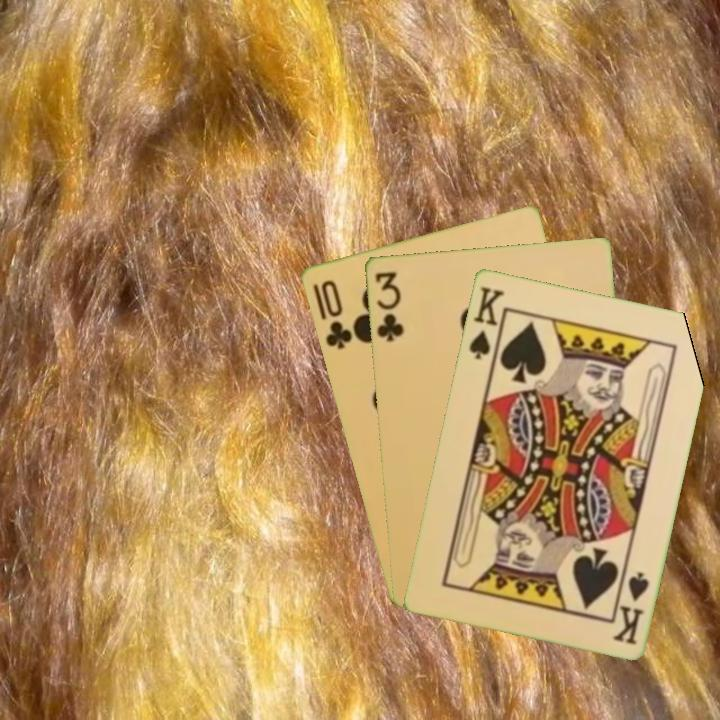10c: (317, 276, 355, 352)
3c: (371, 267, 406, 344)
Ks: (465, 282, 507, 366), (608, 567, 652, 647)
